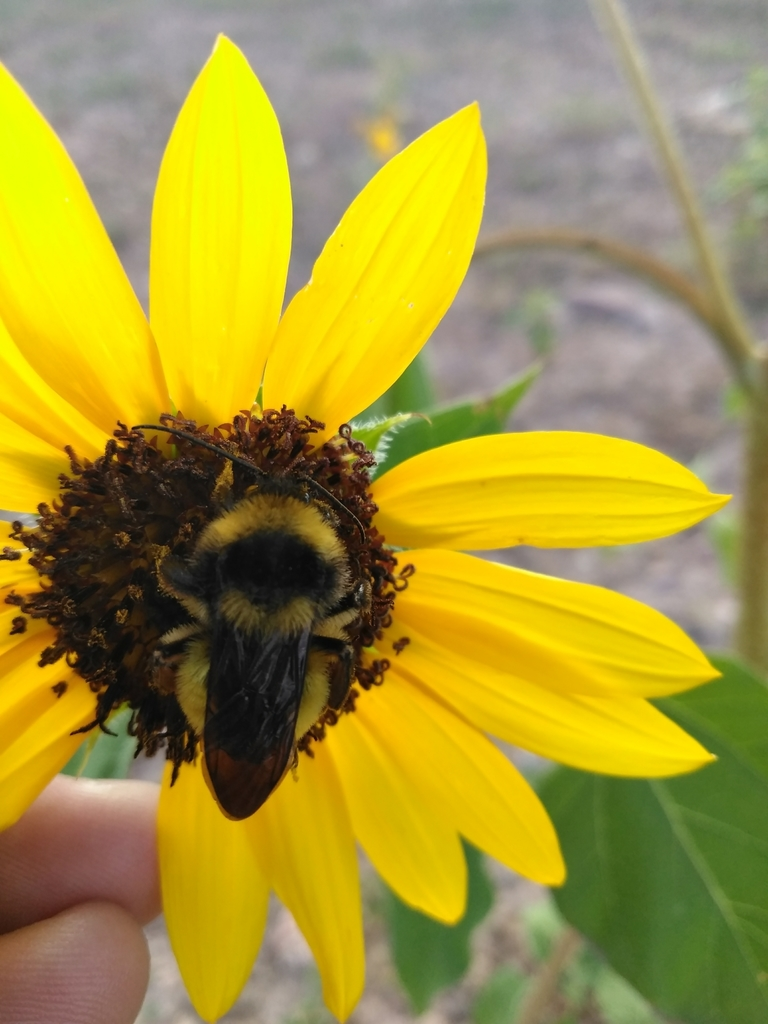bumblebee: (148, 483, 376, 823)
